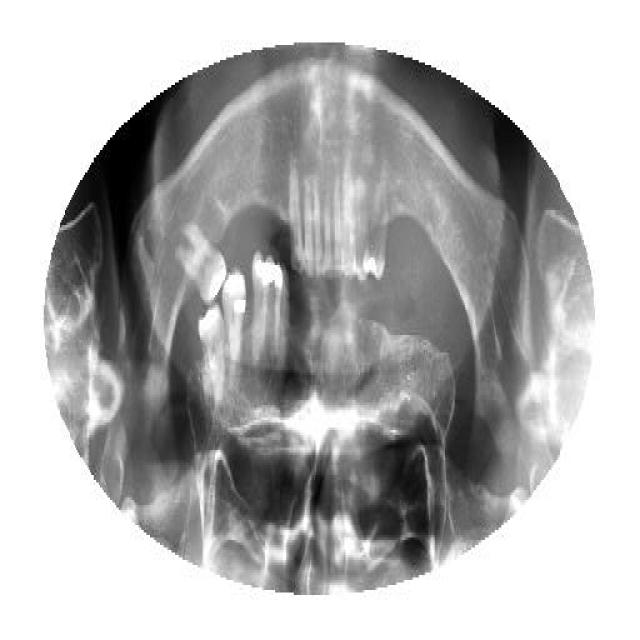Fillings: (250, 250, 274, 370), (222, 270, 248, 365), (362, 200, 388, 282), (272, 252, 290, 368)
Impacted Tooth: (175, 212, 227, 308)
